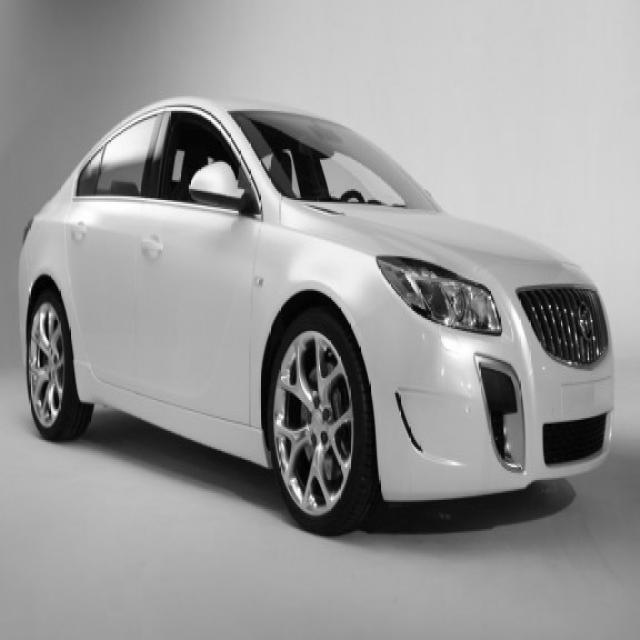car: (18, 94, 614, 536)
